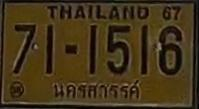1: (140, 25, 147, 73), (46, 24, 52, 73), (90, 24, 96, 72)
5: (106, 24, 129, 73)
6: (158, 25, 181, 74)
7: (13, 23, 35, 73)
NSN: (49, 78, 145, 102)
